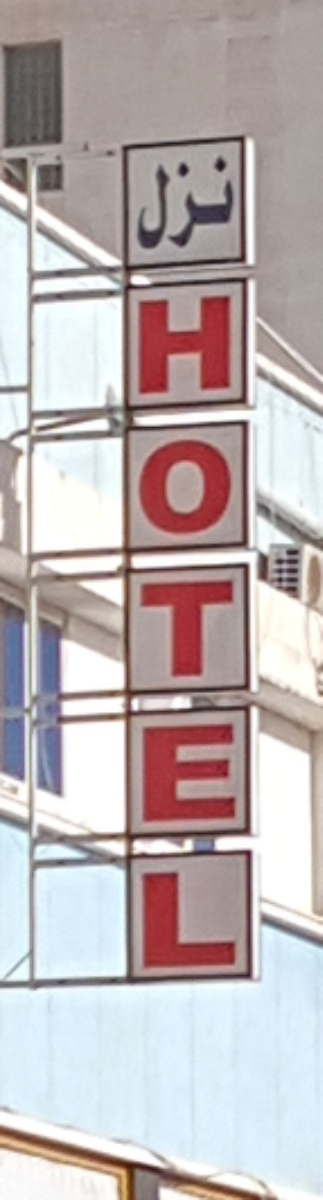text: (145, 282, 160, 970), (161, 282, 176, 970), (177, 282, 192, 970), (193, 282, 208, 970), (209, 282, 224, 970), (225, 282, 238, 970), (138, 282, 144, 970), (145, 154, 160, 251), (161, 154, 176, 251), (177, 154, 192, 251), (193, 154, 208, 251), (209, 154, 224, 251), (132, 154, 144, 251), (225, 154, 235, 251)
